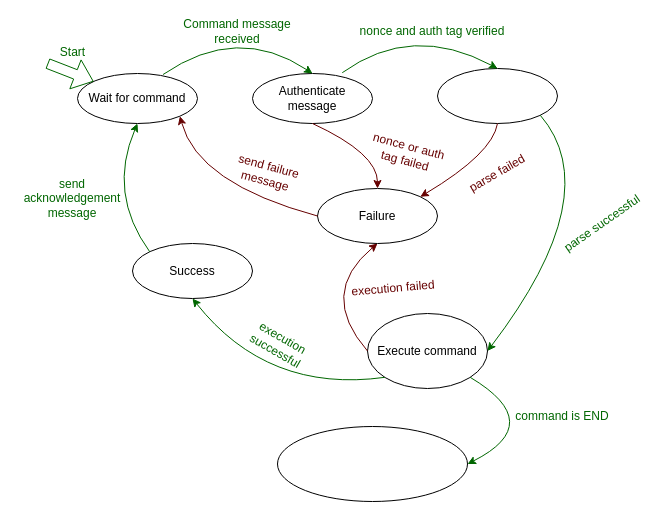
This 670x519 diagram has some shape labels left out. The shapes that lost their labels are listed below. From the top down, each one's centre as x and y in pixels, then its label:
the point at 497,96: Parse commands
the point at 372,464: Session ended (back to Handshake waiting)
